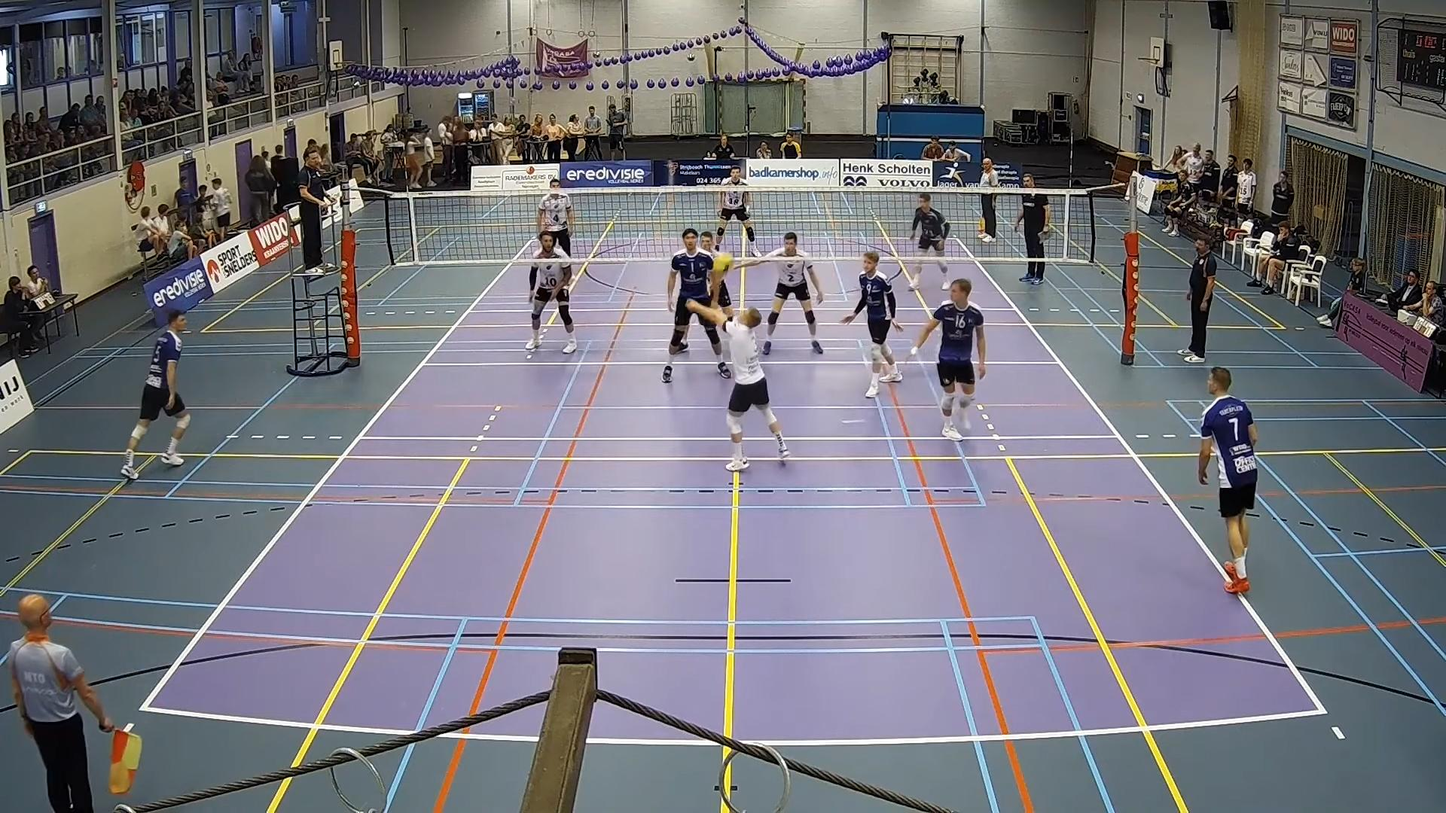alzata: (673, 292, 784, 478)
